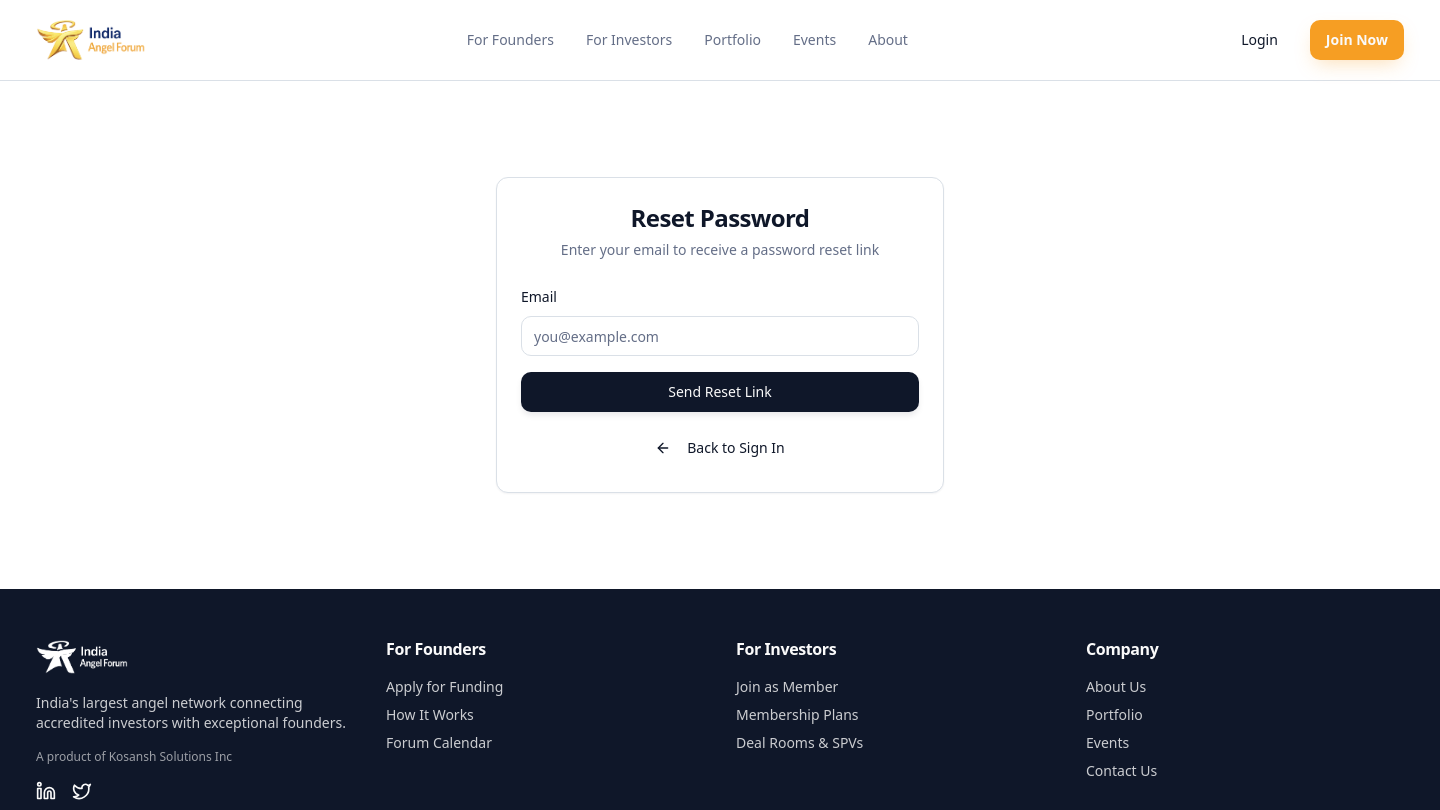
Test: N5: Forgot Password Flow › Successful submission › shows success message after successful email submission
This screenshot has width=1440, height=810.
In the field labelled "Email": (720, 336) [521, 316, 919, 356], type "user@example.com"
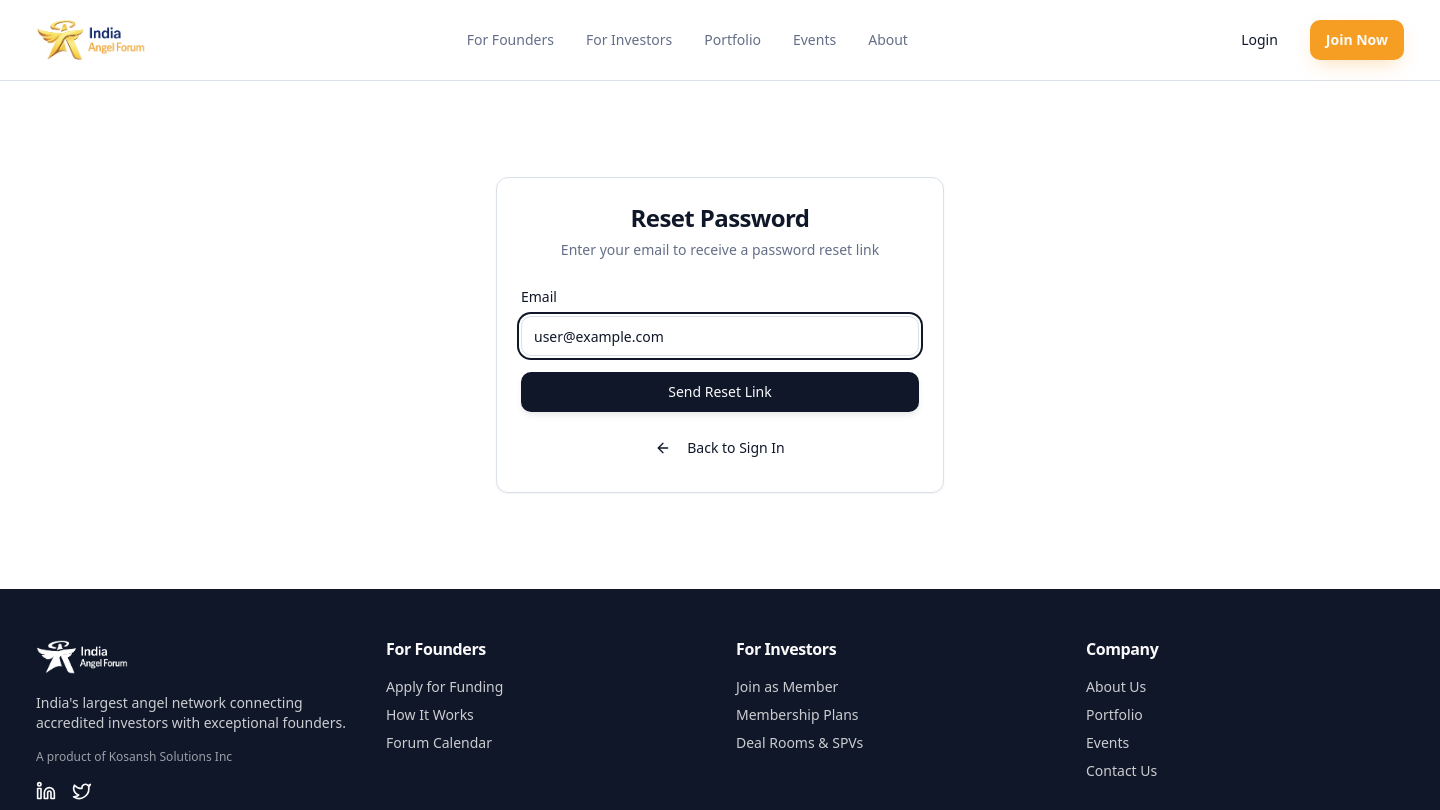
Click the button "Send Reset Link": click(720, 392) [521, 372, 919, 412]
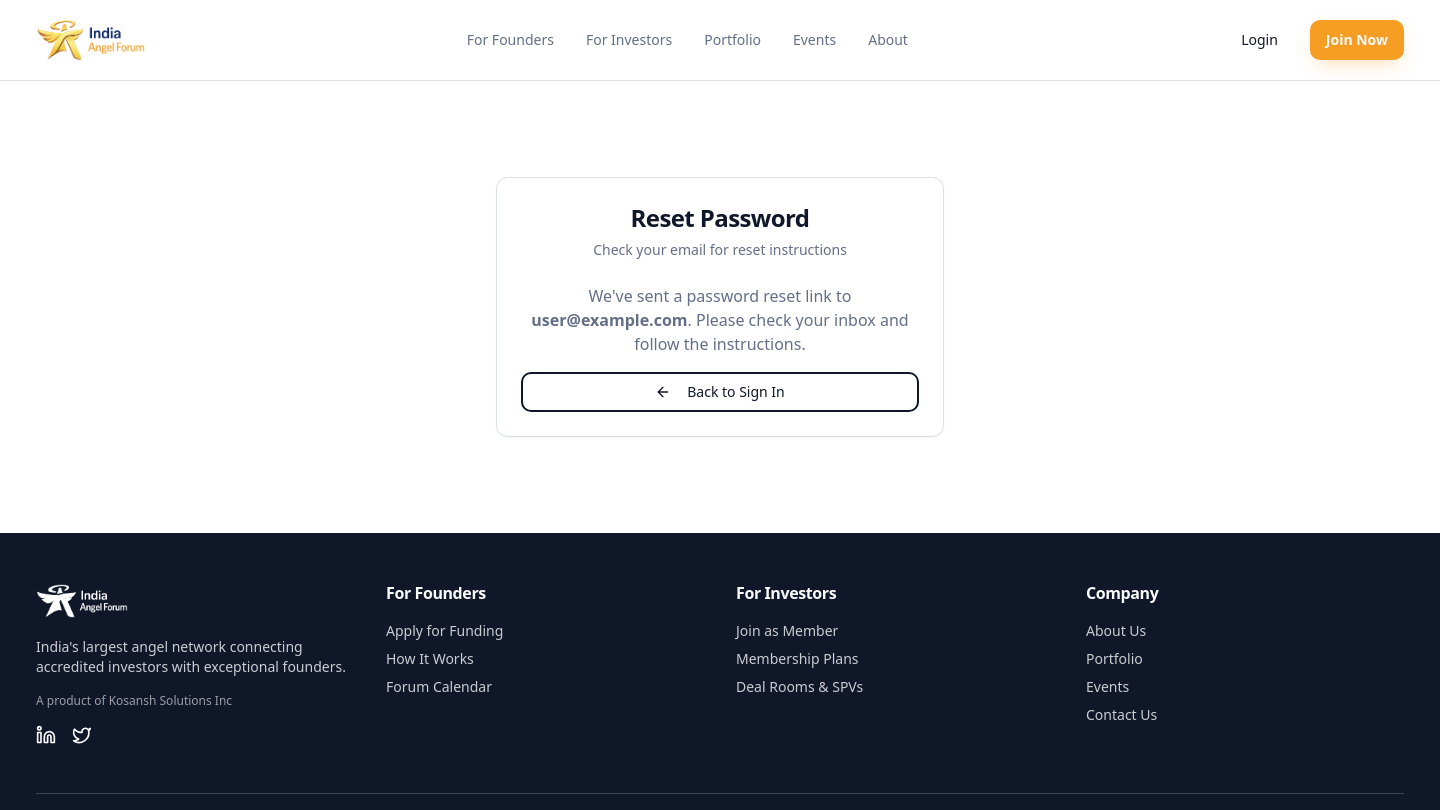
Now the text "We've sent a password reset link" is shown, box [588, 285, 851, 307]
